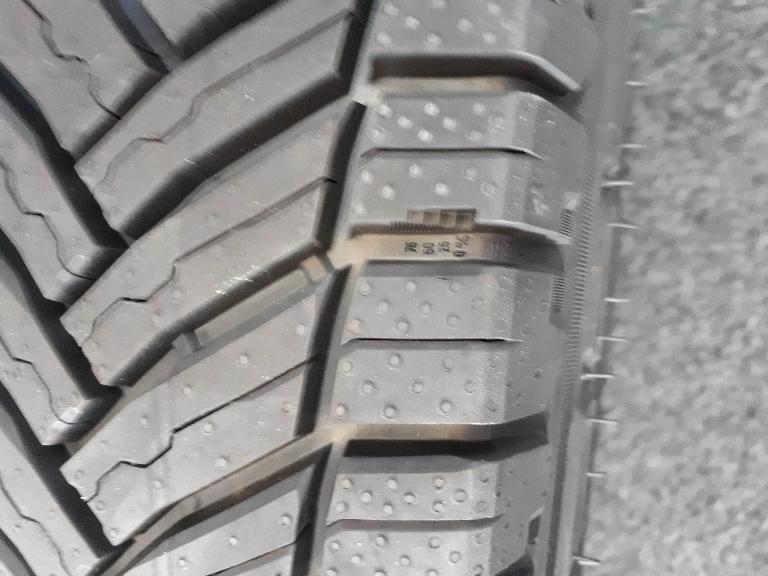temoin:100: (387, 203, 479, 236)
